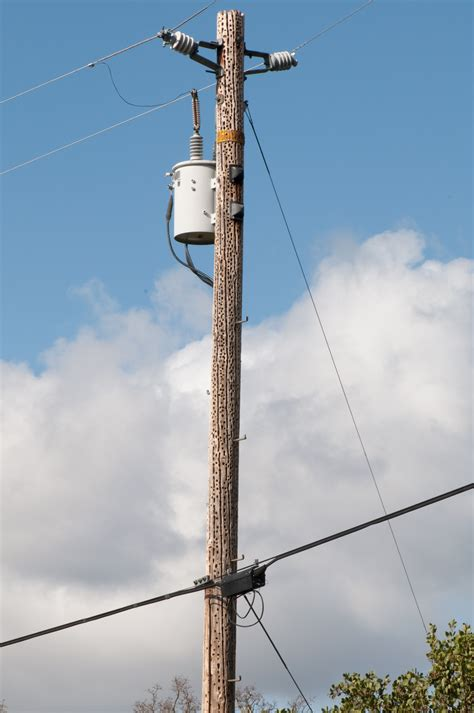pole: (129, 9, 308, 705)
